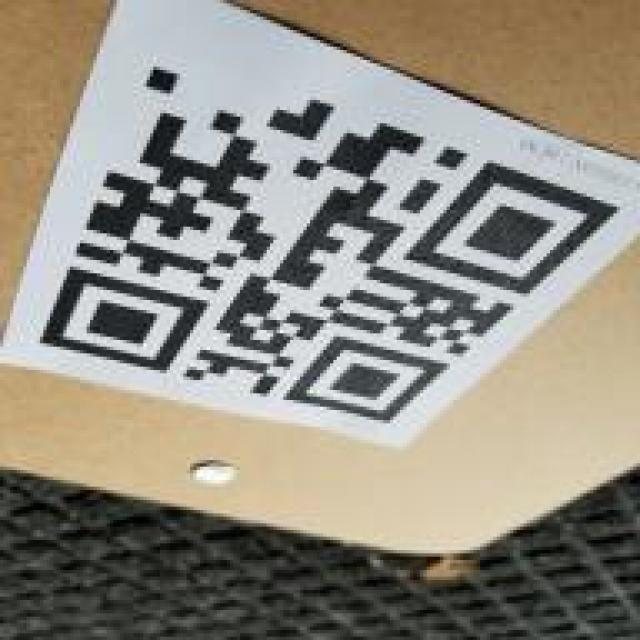qr_code: (39, 66, 620, 423)
